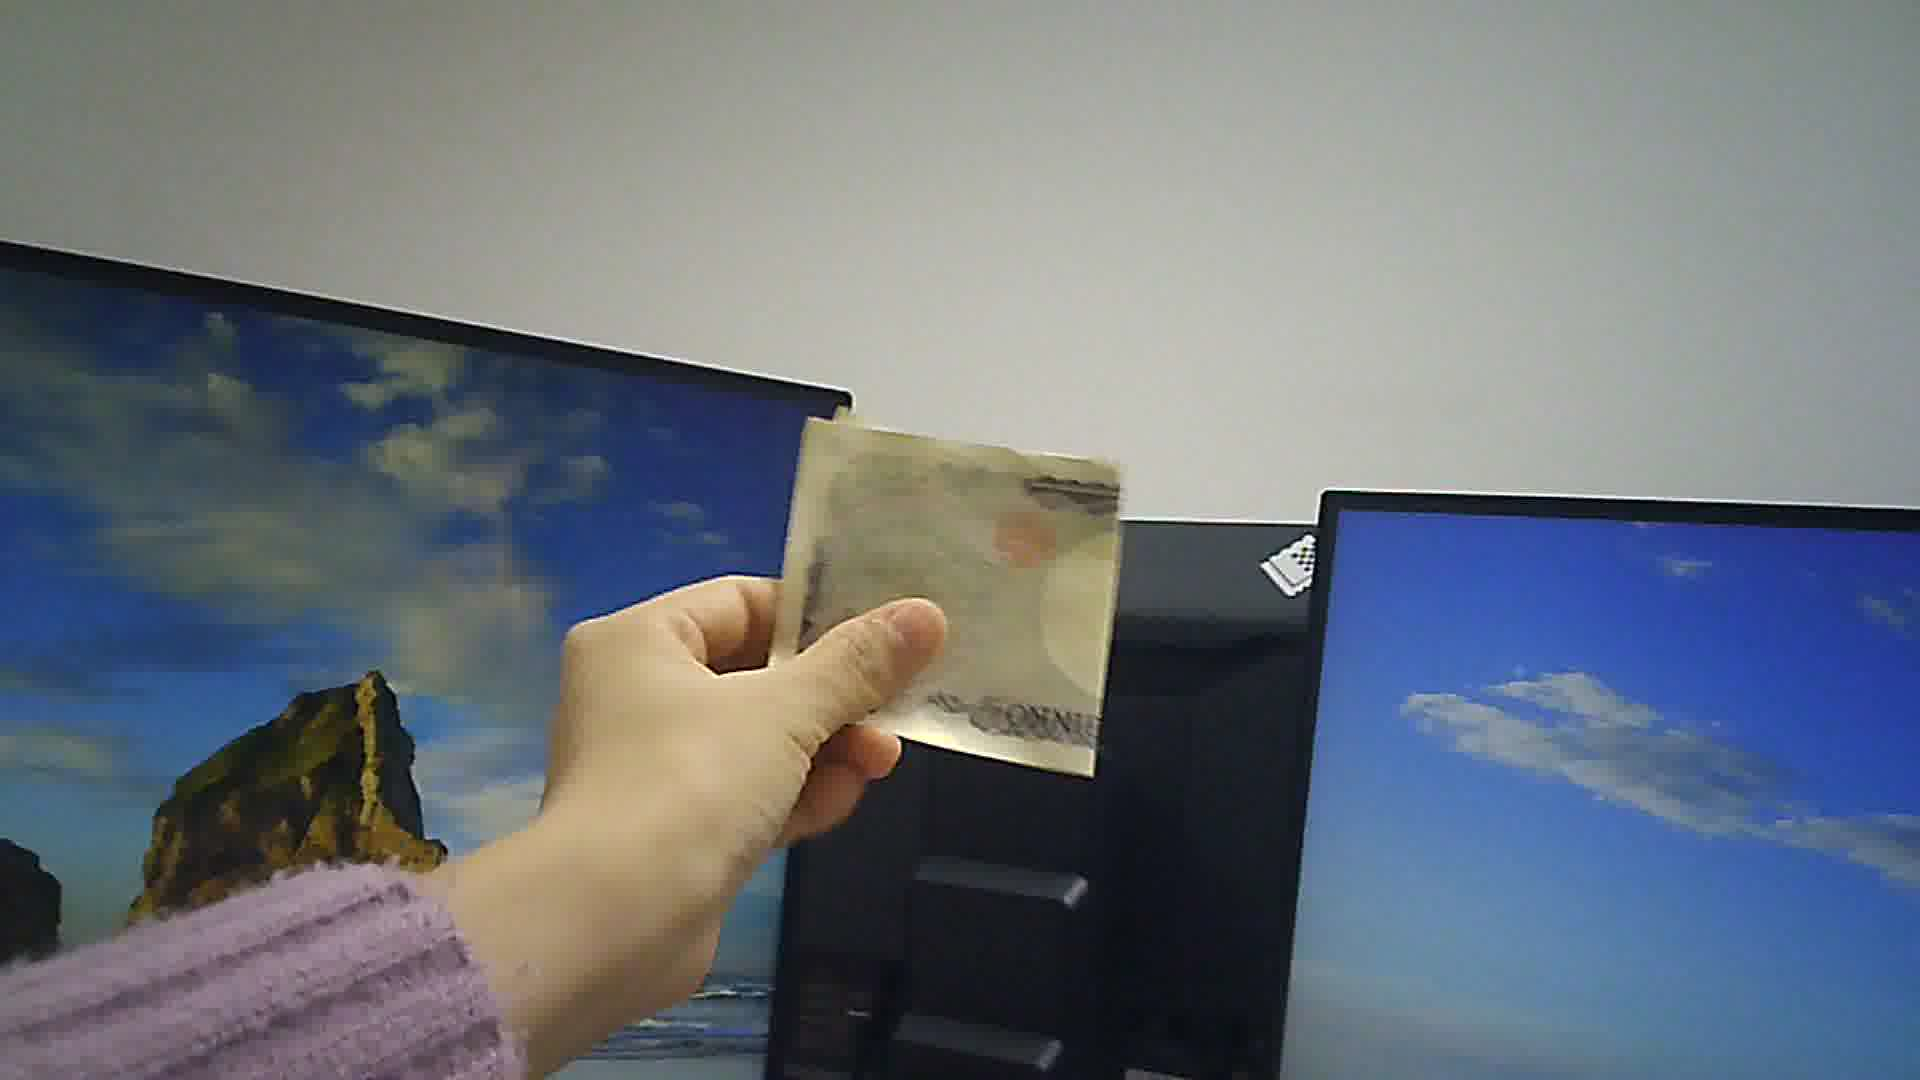5,000 Yen: (762, 409, 1143, 777)
